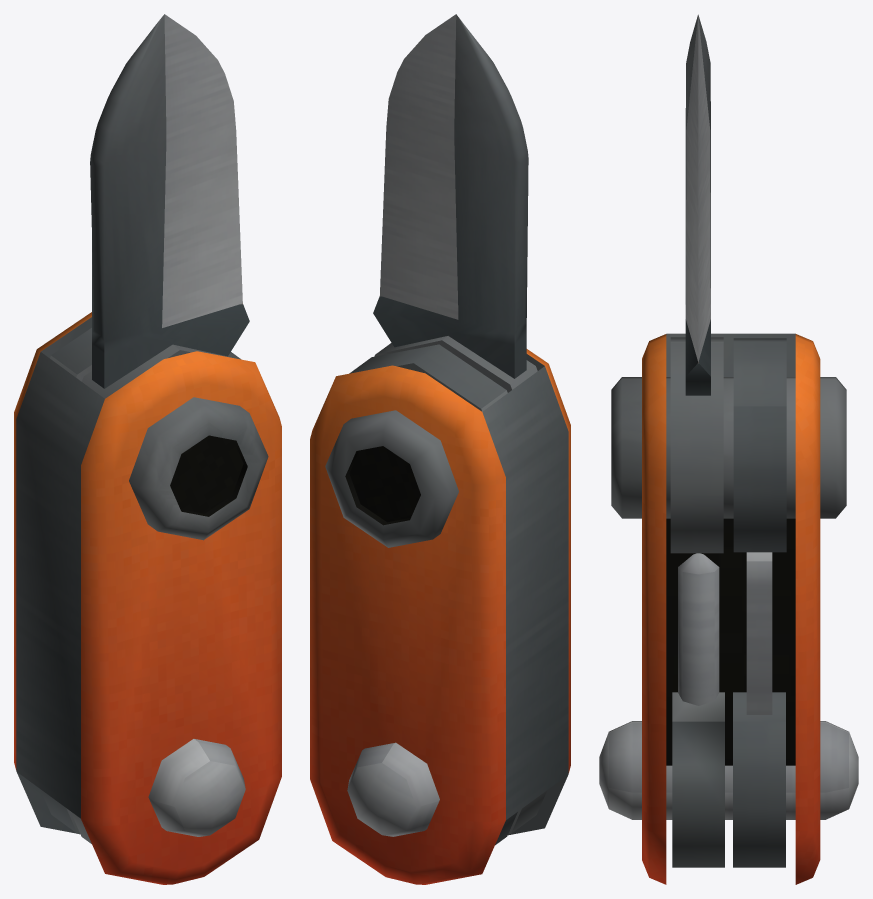
Rendered from pocket_knife.fbx.
3 renders of one model, left to right at view 1: azimuth 30°, elevation 25°; view 2: azimuth 150°, elevation 25°; view 3: azimuth 270°, elevation 25°, orthographic. The views are drawn at different scales.
Parts seen in each view (by area): view 1: pocket_knife; view 2: pocket_knife; view 3: pocket_knife.
Part boxes in pixels (x1,y1,x2,y2): pocket_knife: [14, 14, 281, 884]; pocket_knife: [310, 14, 570, 884]; pocket_knife: [599, 14, 858, 884].
Bounding box in the file's own units: 8.08 × 33.24 × 9.1.
